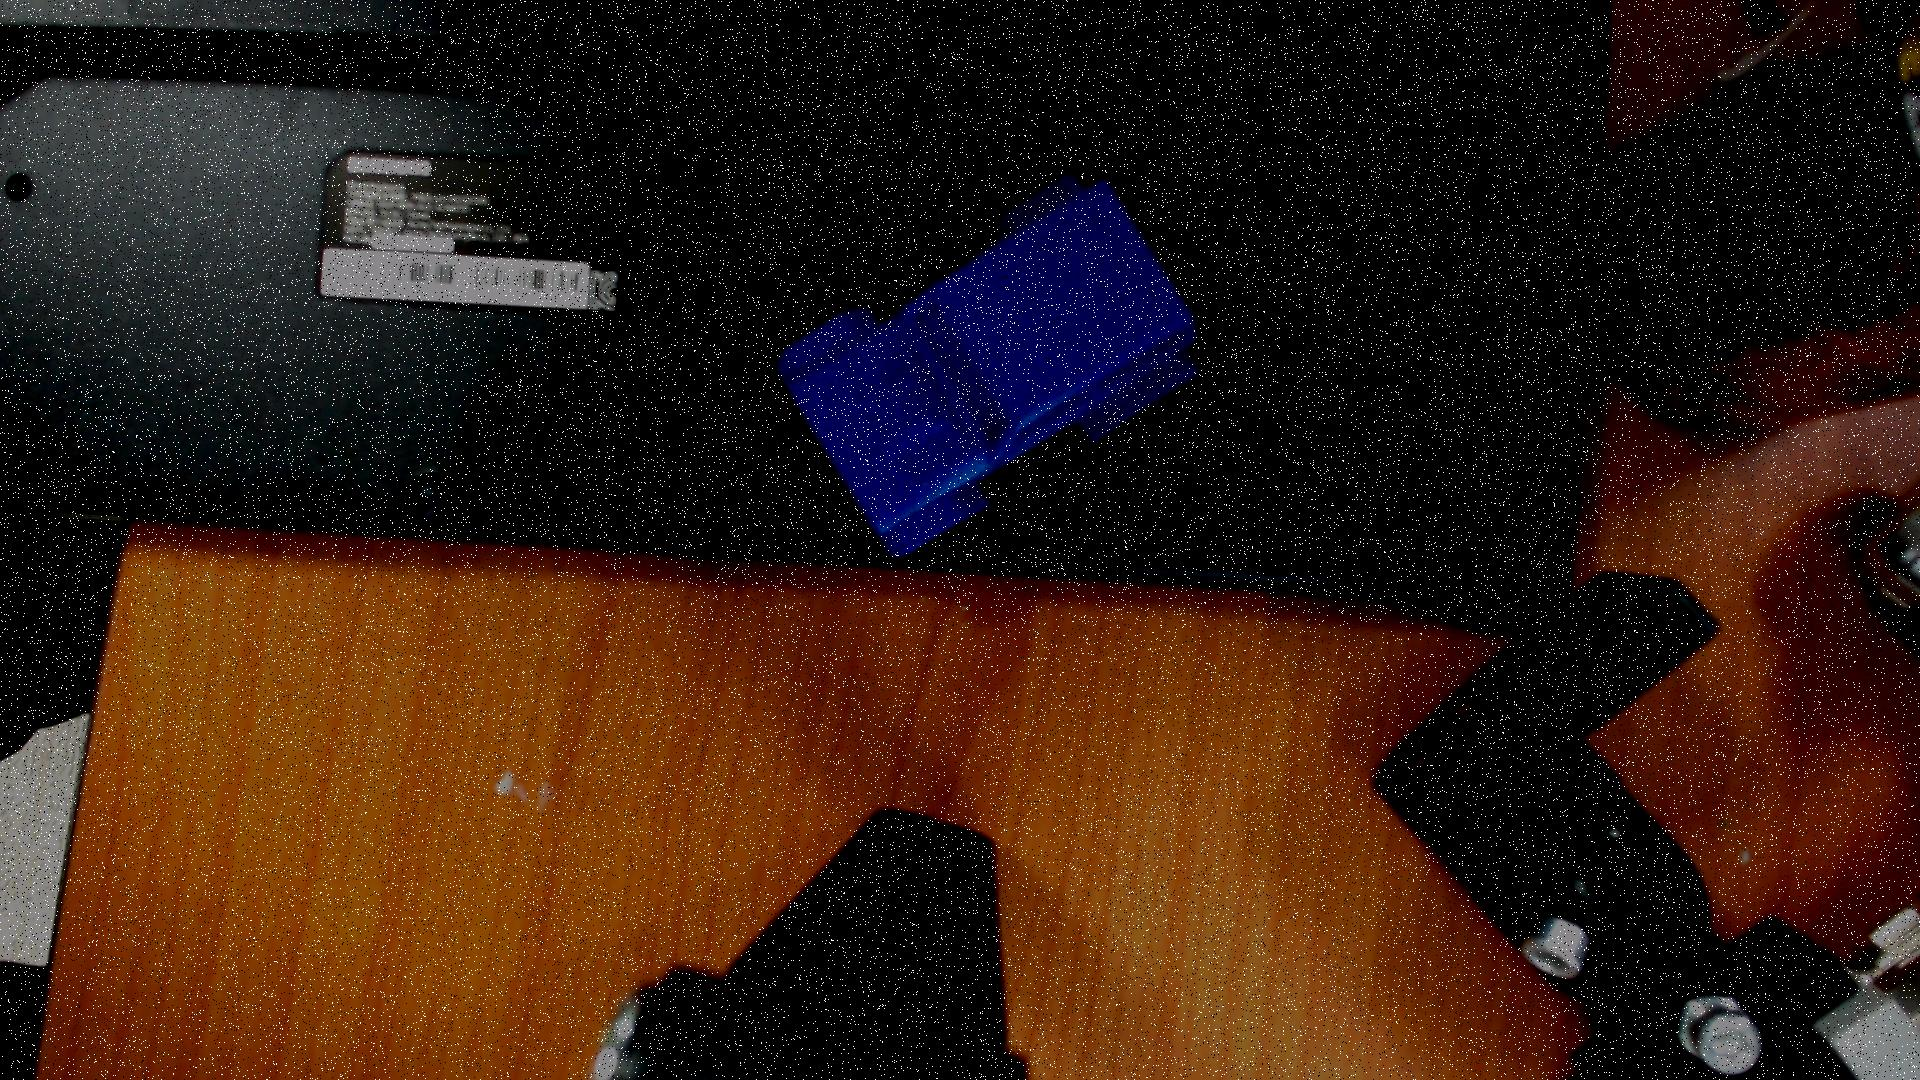Upper_ng: (777, 174, 1199, 557)
